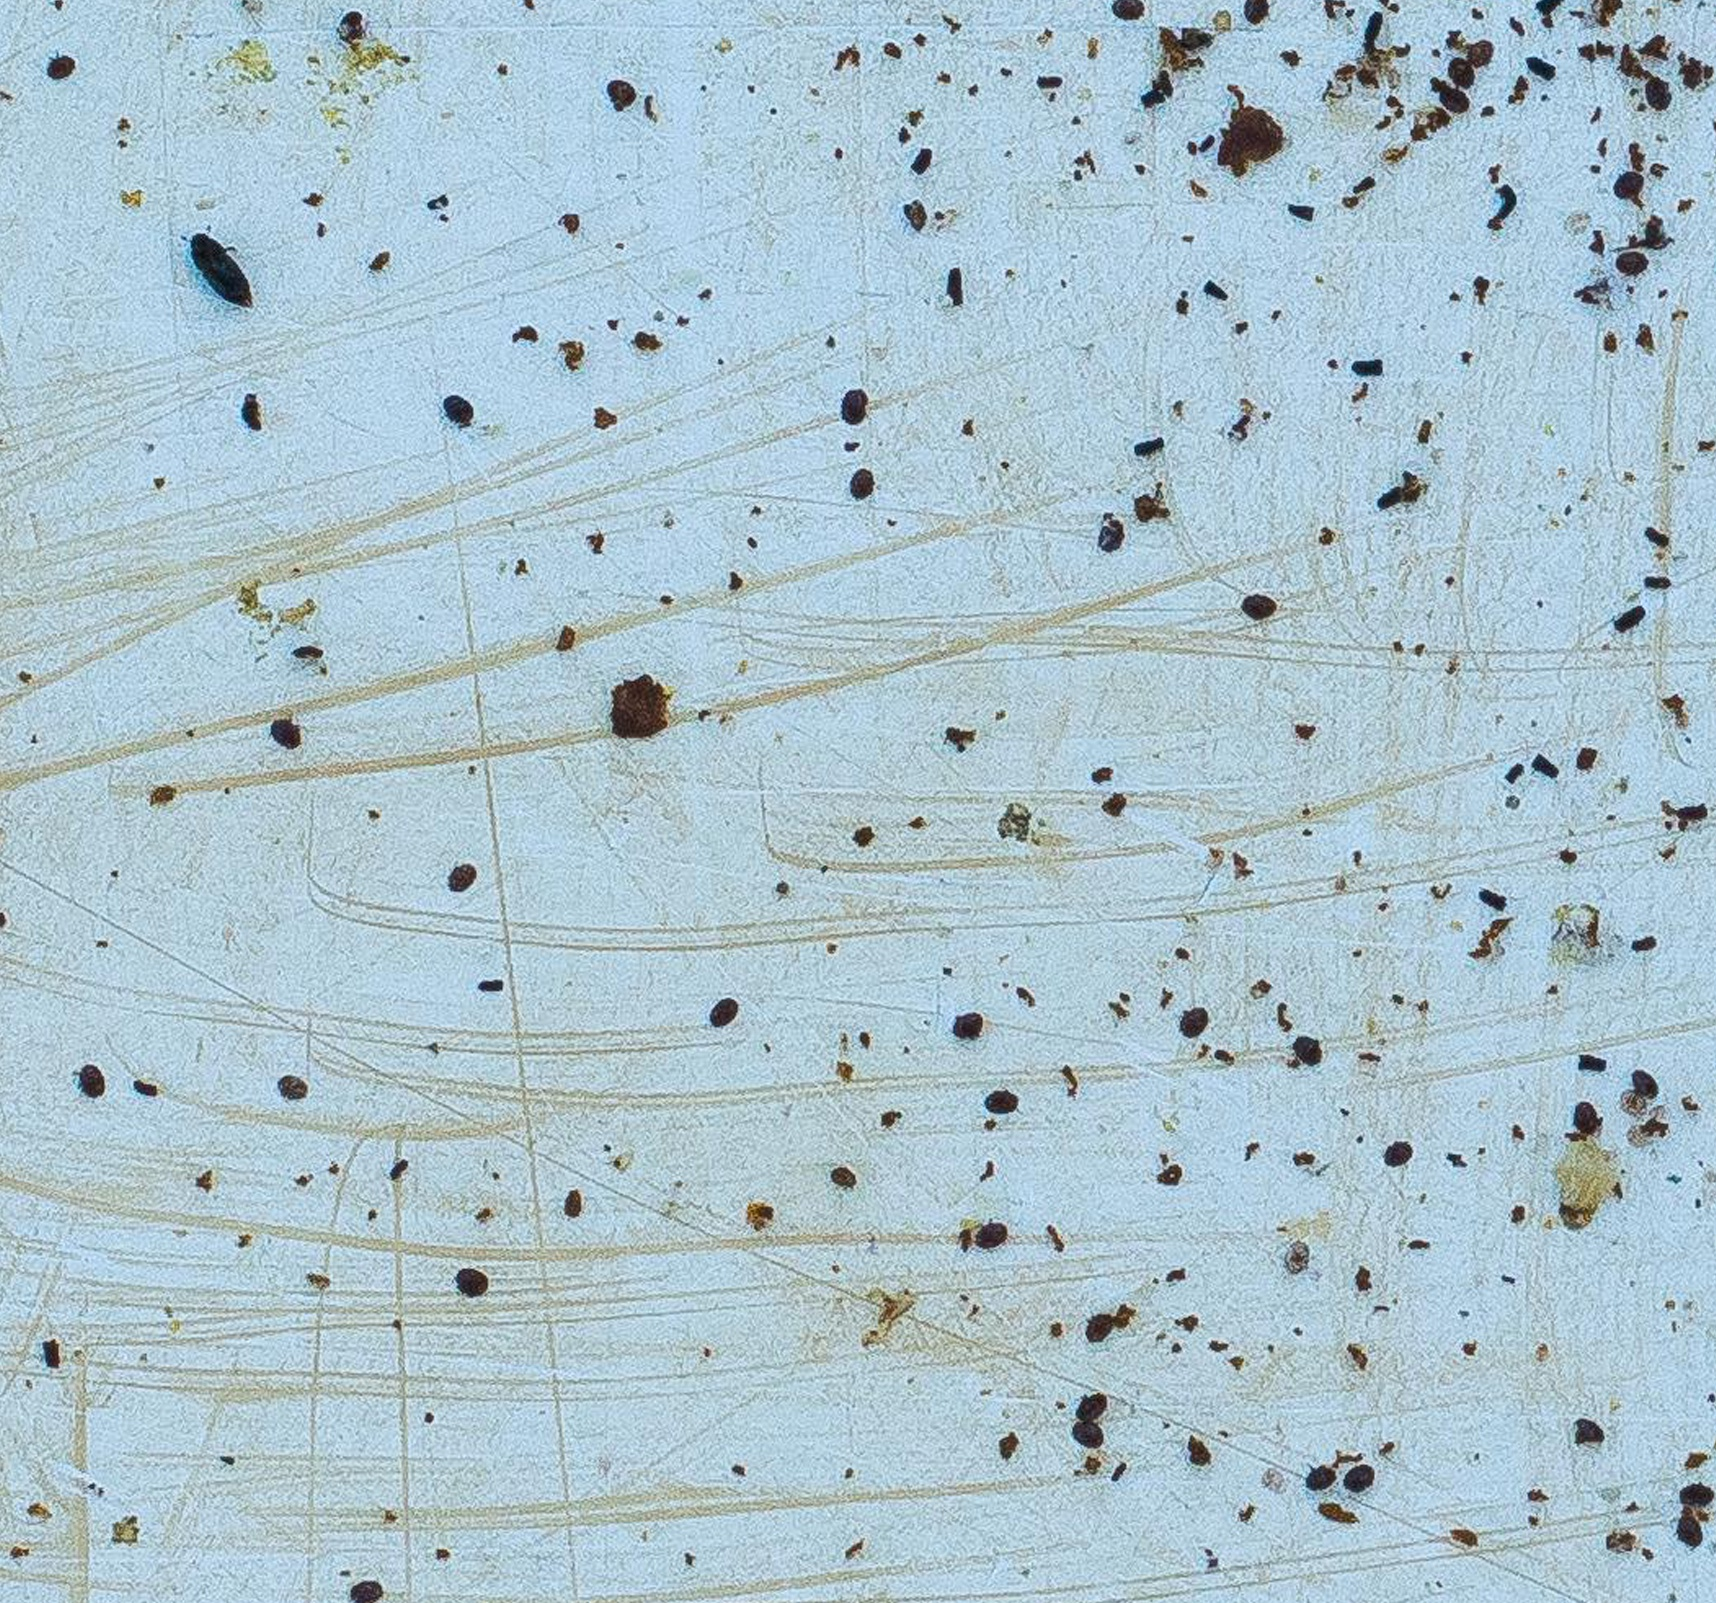Varroa: (1457, 29, 1504, 75), (1085, 515, 1131, 562), (696, 985, 743, 1032), (1335, 1455, 1382, 1502), (38, 41, 83, 87), (1440, 50, 1487, 95), (1638, 66, 1683, 113), (832, 383, 878, 428), (1232, 583, 1278, 630), (1284, 1024, 1330, 1070), (942, 1000, 987, 1047), (976, 1074, 1023, 1119), (443, 854, 490, 899), (274, 1061, 319, 1107), (444, 1256, 491, 1302), (1562, 1092, 1609, 1137), (1431, 77, 1476, 122), (1603, 158, 1648, 203), (434, 389, 479, 434), (262, 713, 307, 758), (841, 460, 886, 505), (1172, 997, 1217, 1043), (66, 1055, 111, 1100), (964, 1211, 1009, 1256), (1073, 1302, 1118, 1347), (1376, 1134, 1421, 1180), (1293, 1458, 1338, 1504), (600, 66, 643, 113), (1608, 243, 1653, 286), (1623, 1061, 1668, 1104), (1070, 1379, 1113, 1424)
